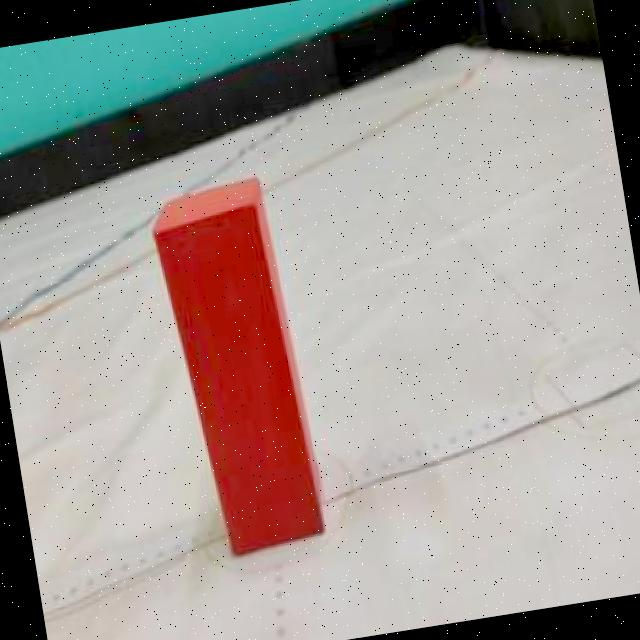redbox: (145, 172, 328, 558)
